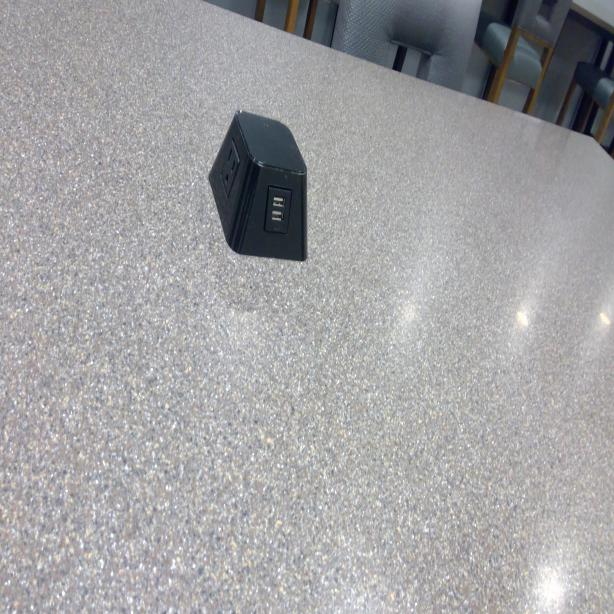typeb: (221, 146, 241, 188)
